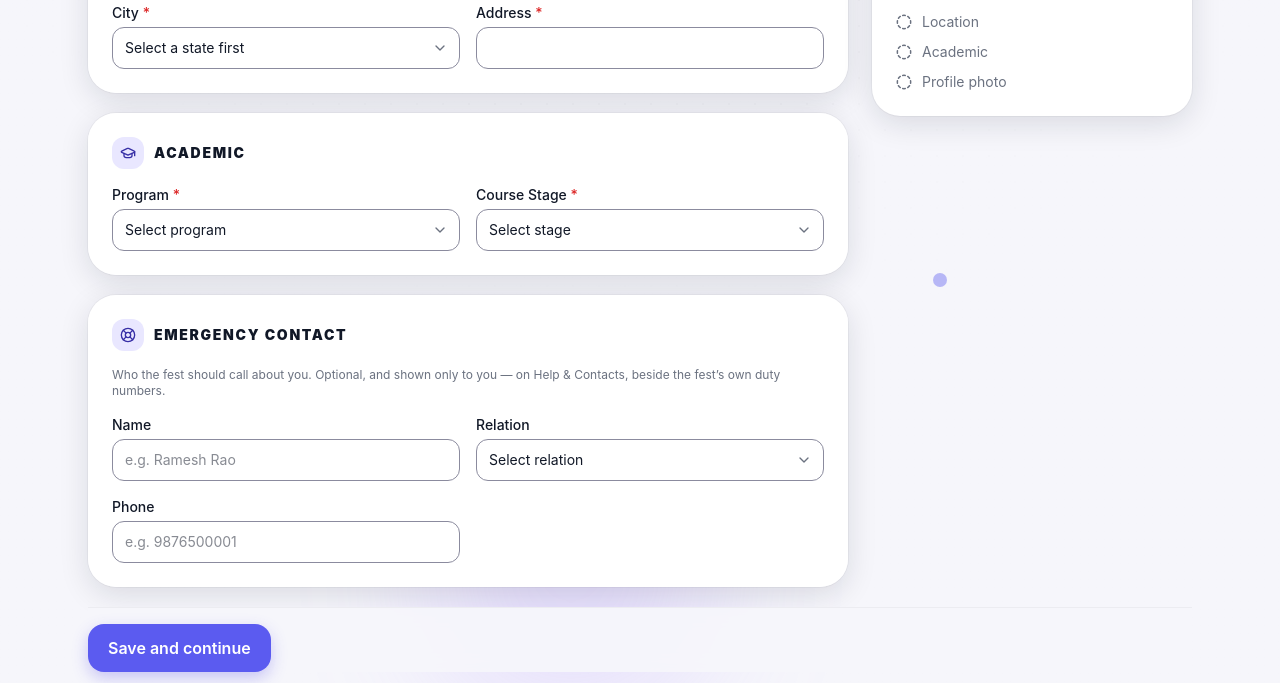
Test case: CompleteProfilePage › requires a profile photo before the form can be submitted
The image size is (1280, 683).
(page scrolled)
Click the button "Save and continue" at (179, 648), box [88,624,271,672]
(page scrolled)
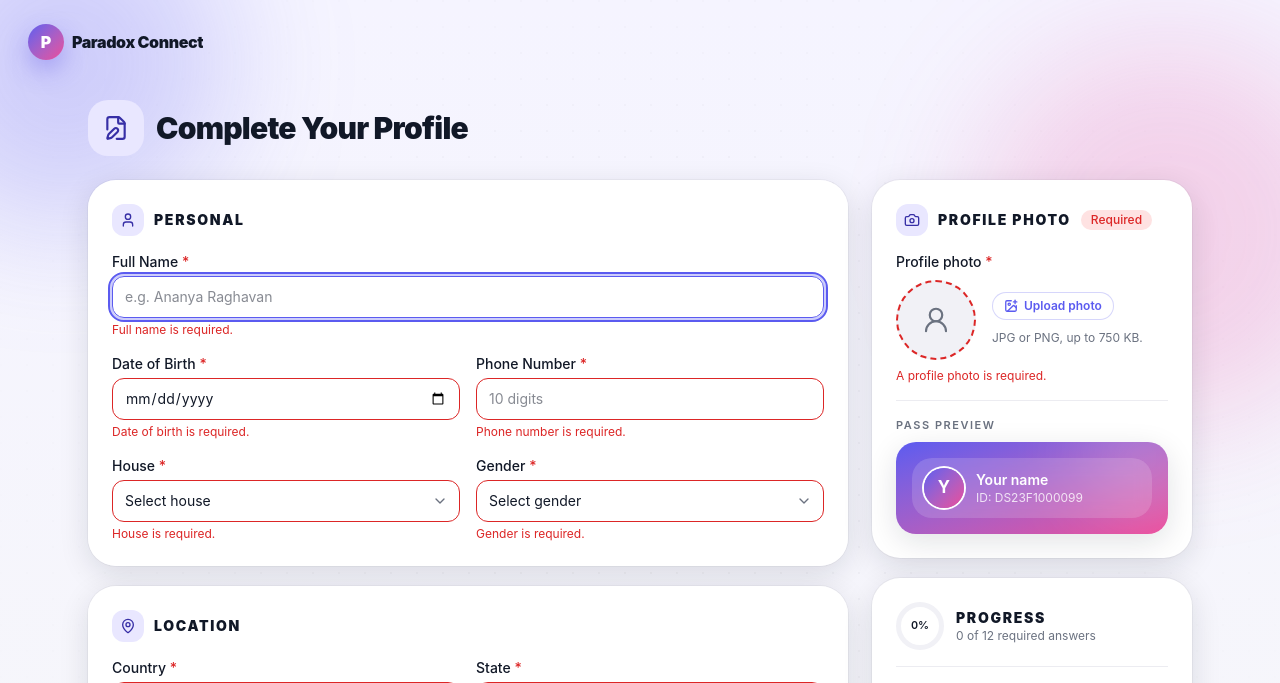
Expected: the button "Upload photo" is shown, [992,292,1114,320]
Expected: the text "A profile photo is required." is shown, [896,368,1047,383]
